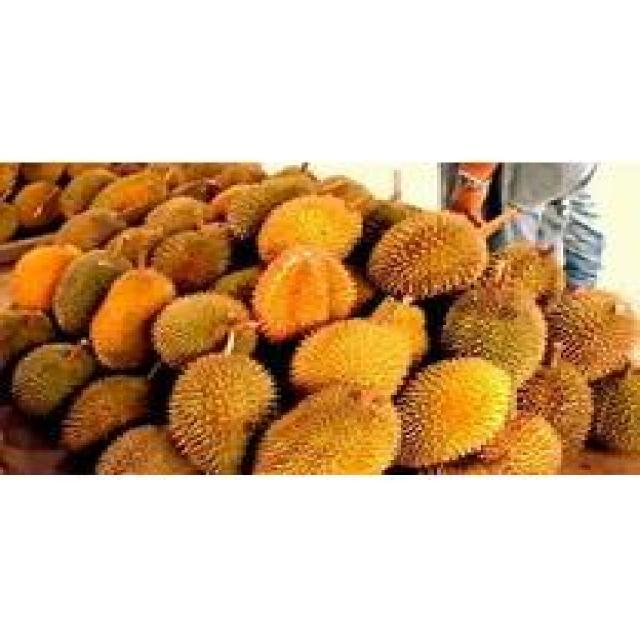fruit: (357, 205, 498, 327)
